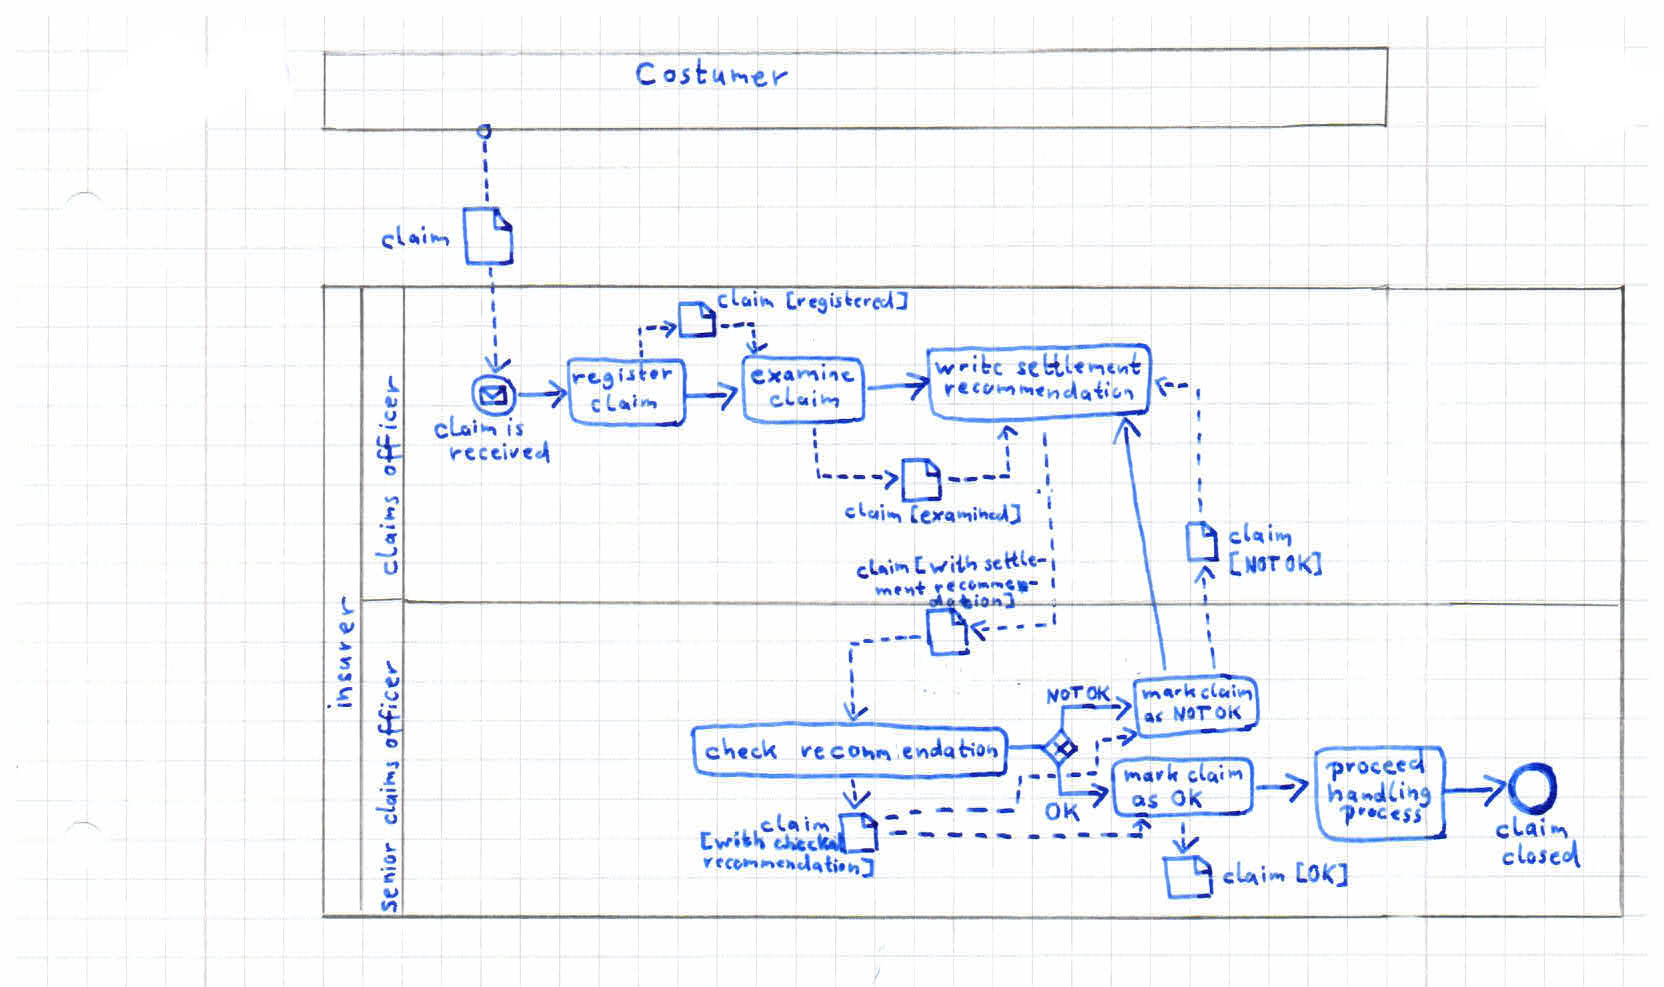Costumer: (629, 53, 796, 98)
NOT: (1040, 681, 1089, 709), (1166, 701, 1217, 726)
OK: (1163, 783, 1210, 813), (1039, 798, 1086, 828), (1082, 681, 1116, 706), (1211, 701, 1246, 725)
OK]: (1278, 548, 1329, 583)
[NOT: (1222, 548, 1286, 582)
[OK]: (1291, 857, 1355, 895)
[examined]: (907, 499, 1028, 531)
[registered]: (780, 287, 915, 321)
[with: (694, 824, 772, 857), (910, 549, 984, 580)
as: (1125, 788, 1164, 813), (1136, 707, 1170, 728)
check: (698, 732, 784, 767)
checked: (767, 828, 854, 859)
claim: (1489, 811, 1574, 847), (375, 219, 454, 256), (763, 381, 847, 416), (1221, 517, 1300, 553), (427, 409, 504, 445), (1217, 857, 1293, 892), (584, 387, 665, 419), (752, 807, 835, 839), (838, 497, 908, 531), (1181, 757, 1249, 790), (710, 283, 781, 315), (850, 553, 914, 584), (1195, 679, 1257, 705)
claims: (368, 488, 406, 582), (368, 756, 405, 831)
closed: (1495, 833, 1586, 874)
dation]: (922, 587, 1020, 615)
examine: (745, 358, 860, 392)
handling: (1319, 774, 1439, 815)
insurer: (321, 589, 362, 717)
is: (501, 412, 531, 442)
mark: (1120, 758, 1183, 788), (1136, 680, 1204, 706)
ment: (869, 577, 930, 602)
officer: (368, 368, 409, 483), (371, 654, 409, 756)
proceed: (1319, 744, 1431, 788)
process: (1333, 798, 1429, 833)
received: (443, 435, 557, 469)
recommen-: (930, 573, 1045, 599)
recommendation: (790, 732, 1005, 767), (938, 372, 1141, 408), (696, 850, 881, 884)
register: (567, 361, 680, 397)
senior: (373, 837, 404, 919)
settle-: (981, 545, 1055, 577)
settlement: (1010, 348, 1148, 384)
write: (930, 350, 1010, 382)
